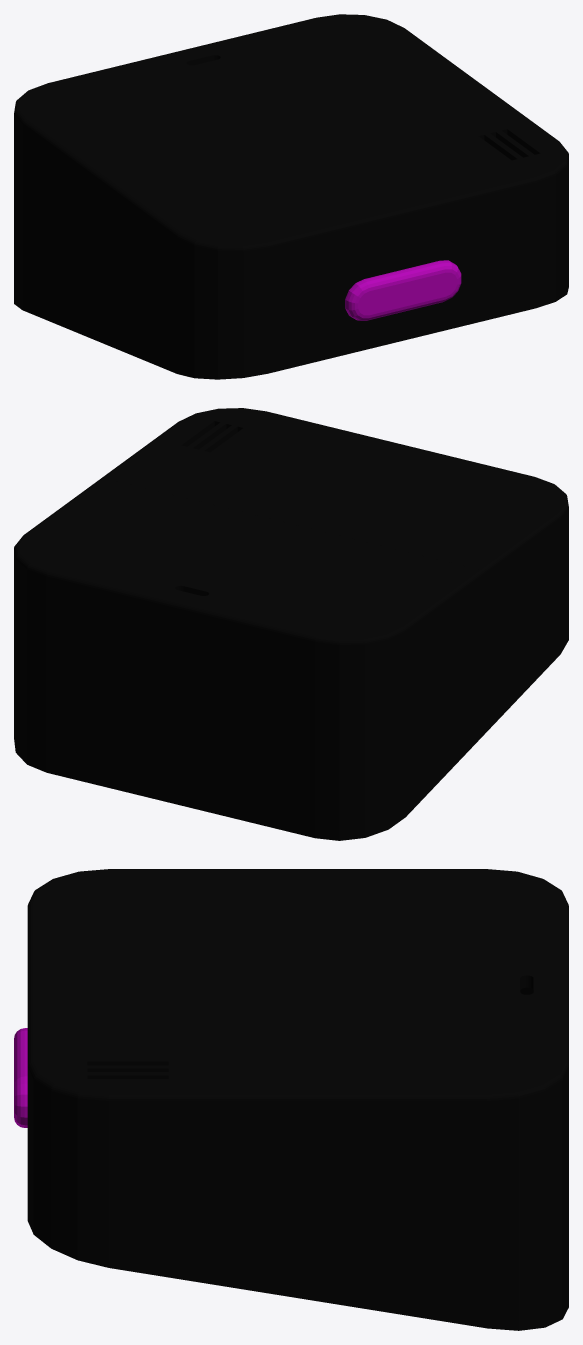
The model's file is Uhr.fbx.
3 renders of one model, top to bottom at view 1: azimuth 30°, elevation 25°; view 2: azimuth 150°, elevation 25°; view 3: azimuth 270°, elevation 25°, orthographic. The views are drawn at different scales.
Parts seen in each view (by area): view 1: Uhr; view 2: Uhr; view 3: Uhr.
Part boxes in pixels (x1=…): Uhr: x1=14, y1=14, x2=568, y2=379; Uhr: x1=14, y1=408, x2=568, y2=840; Uhr: x1=14, y1=869, x2=568, y2=1330.
Size of the model in its own units: 10 by 5 by 10.25.
